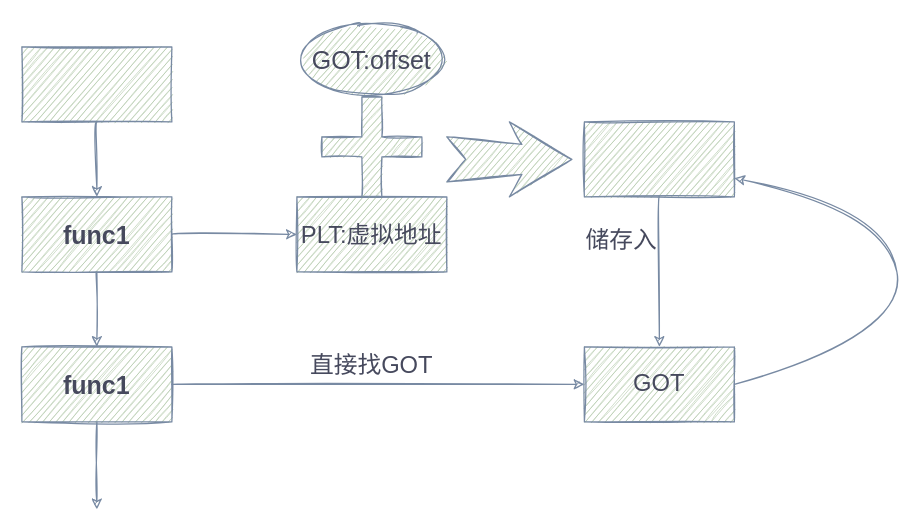
The diagram is 920 pixels wide and 530 high, and some of its shapes have lost their labels. Each missing label, with the centre of its shape:
"start" belongs at pixel 96 84.
"真实函数地址" belongs at pixel 658 159.
